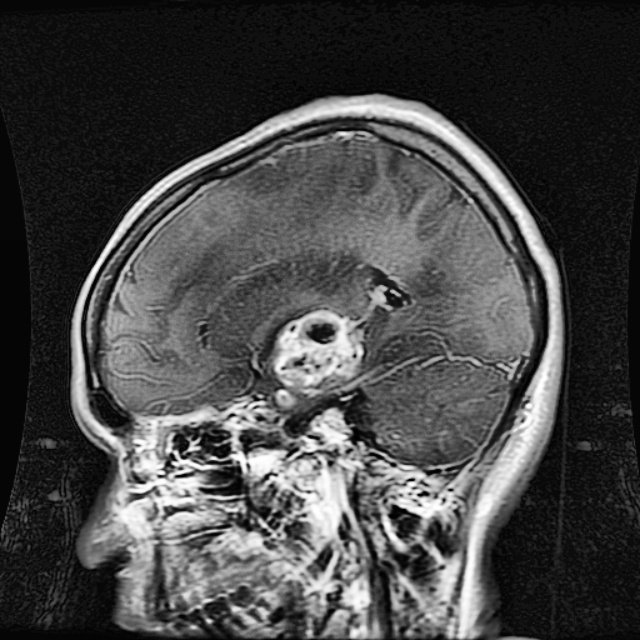Meningioma: (270, 313, 364, 410)
